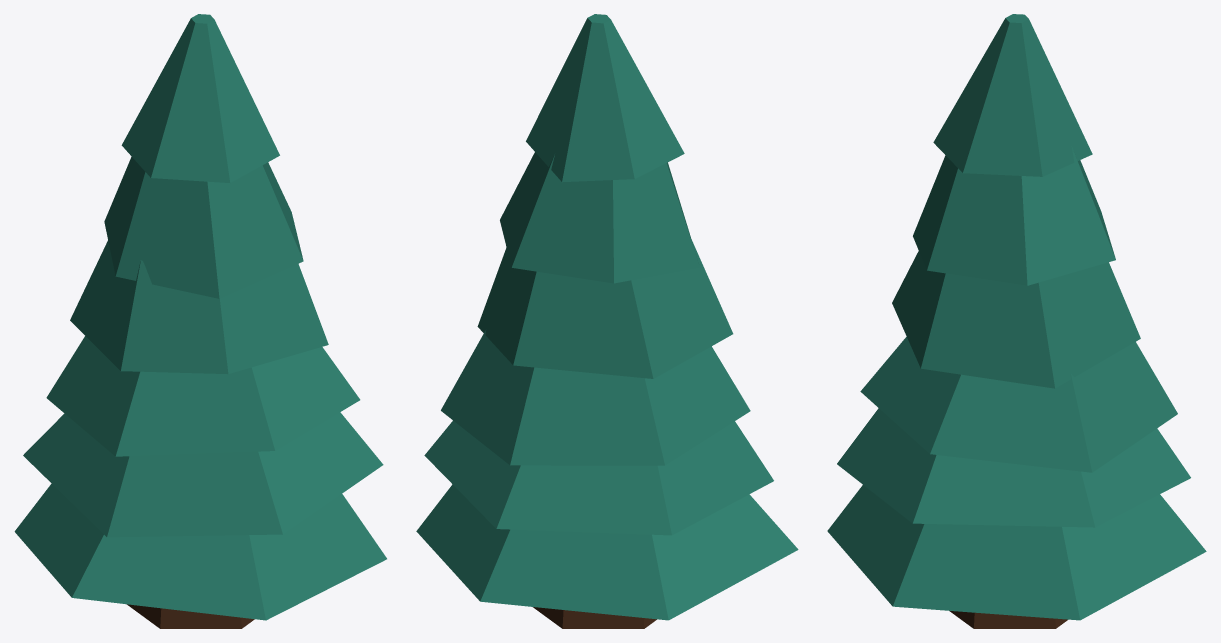
Rendered from SM_Tree_Pine.fbx.
The picture shows the model from 3 angles, left to right: view 1: azimuth 30°, elevation 25°; view 2: azimuth 150°, elevation 25°; view 3: azimuth 270°, elevation 25°; orthographic projection.
Parts seen in each view (by area): view 1: Cylinder.001, Cylinder.002, Cylinder.003, Cylinder.004, Cylinder.005, Cylinder.006, Cylinder; view 2: Cylinder.001, Cylinder.003, Cylinder.002, Cylinder.004, Cylinder.005, Cylinder.006, Cylinder; view 3: Cylinder.001, Cylinder.003, Cylinder.004, Cylinder.002, Cylinder.005, Cylinder.006, Cylinder.
Part boxes in pixels (left/top/right/bottom): Cylinder.001: left=14, top=483, right=386, bottom=620; Cylinder.002: left=23, top=412, right=383, bottom=537; Cylinder.003: left=46, top=336, right=360, bottom=456; Cylinder.004: left=70, top=240, right=328, bottom=374; Cylinder.005: left=104, top=156, right=303, bottom=298; Cylinder.006: left=121, top=14, right=279, bottom=182; Cylinder: left=127, top=604, right=254, bottom=628; Cylinder.001: left=416, top=484, right=798, bottom=620; Cylinder.003: left=441, top=329, right=750, bottom=465; Cylinder.002: left=424, top=420, right=773, bottom=535; Cylinder.004: left=477, top=239, right=733, bottom=378; Cylinder.005: left=500, top=152, right=699, bottom=283; Cylinder.006: left=526, top=14, right=684, bottom=182; Cylinder: left=533, top=607, right=656, bottom=628; Cylinder.001: left=827, top=485, right=1206, bottom=620; Cylinder.003: left=860, top=337, right=1177, bottom=472; Cylinder.004: left=892, top=251, right=1140, bottom=388; Cylinder.002: left=837, top=408, right=1190, bottom=527; Cylinder.005: left=913, top=146, right=1115, bottom=285; Cylinder.006: left=933, top=14, right=1092, bottom=176; Cylinder: left=949, top=611, right=1067, bottom=628.
Size of the model in its own units: 277 by 268 by 469.
